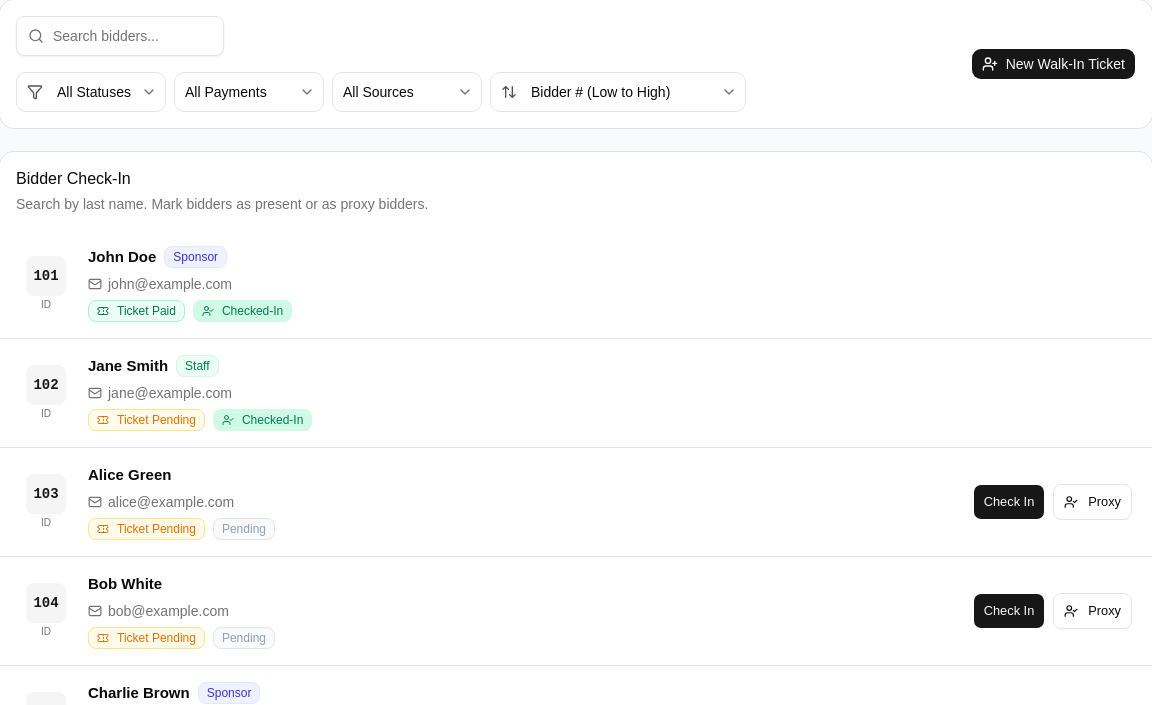
it: Bidders - Sort and Filter › Check-in status filter — checked in: Assert only checked-in bidders are visible
Click the dropdown named "Filter by check-in status": (91, 92) top-left (16, 72), bottom-right (166, 112)
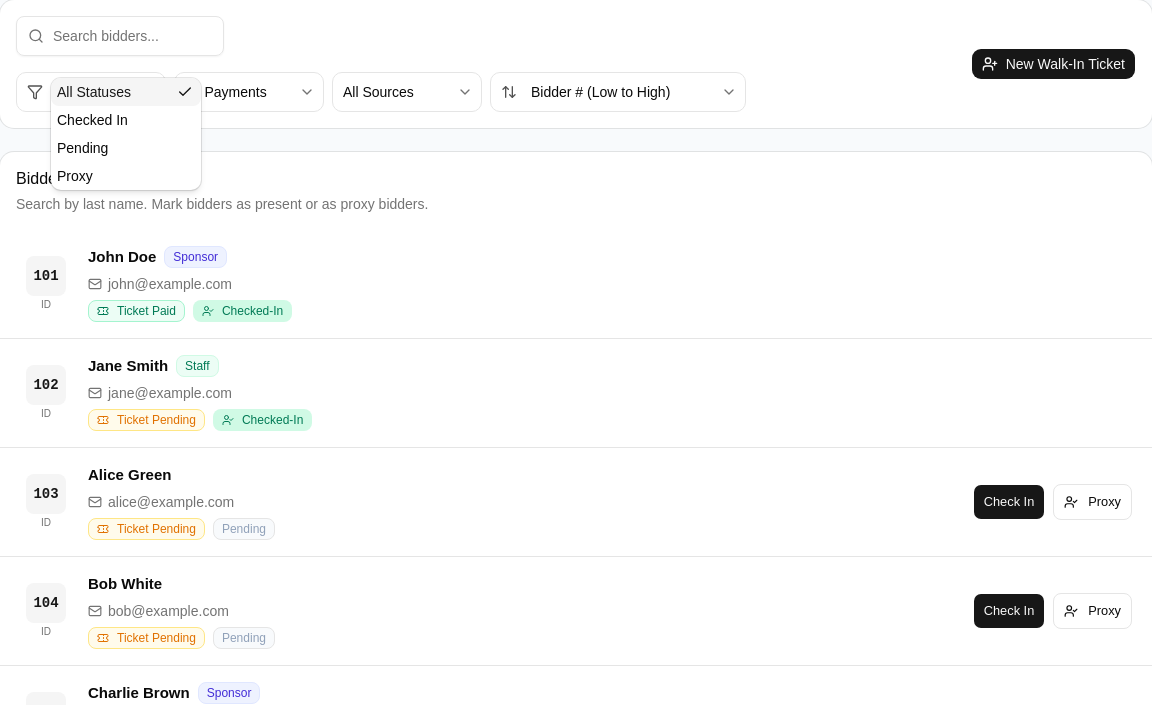
Click the option "Checked In": (92, 120) top-left (57, 112), bottom-right (128, 128)
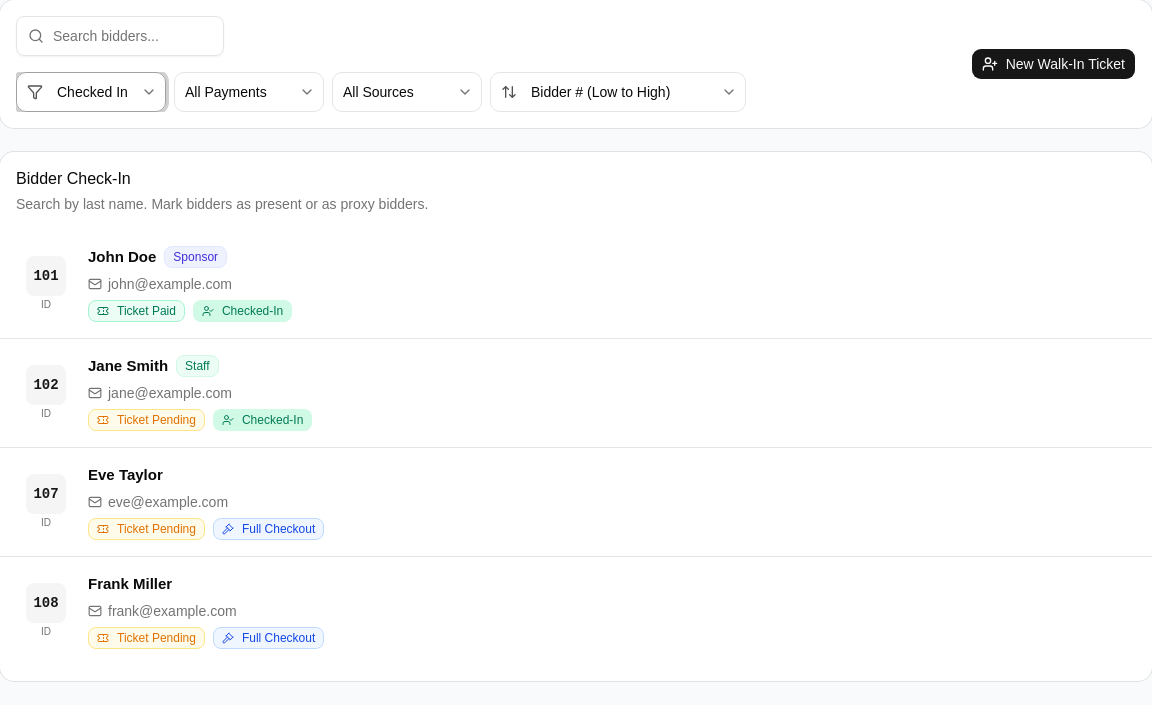
Expected: the text "Alice Green" is gone
Expected: the text "Bob White" is gone
Expected: the text "Charlie Brown" is gone
